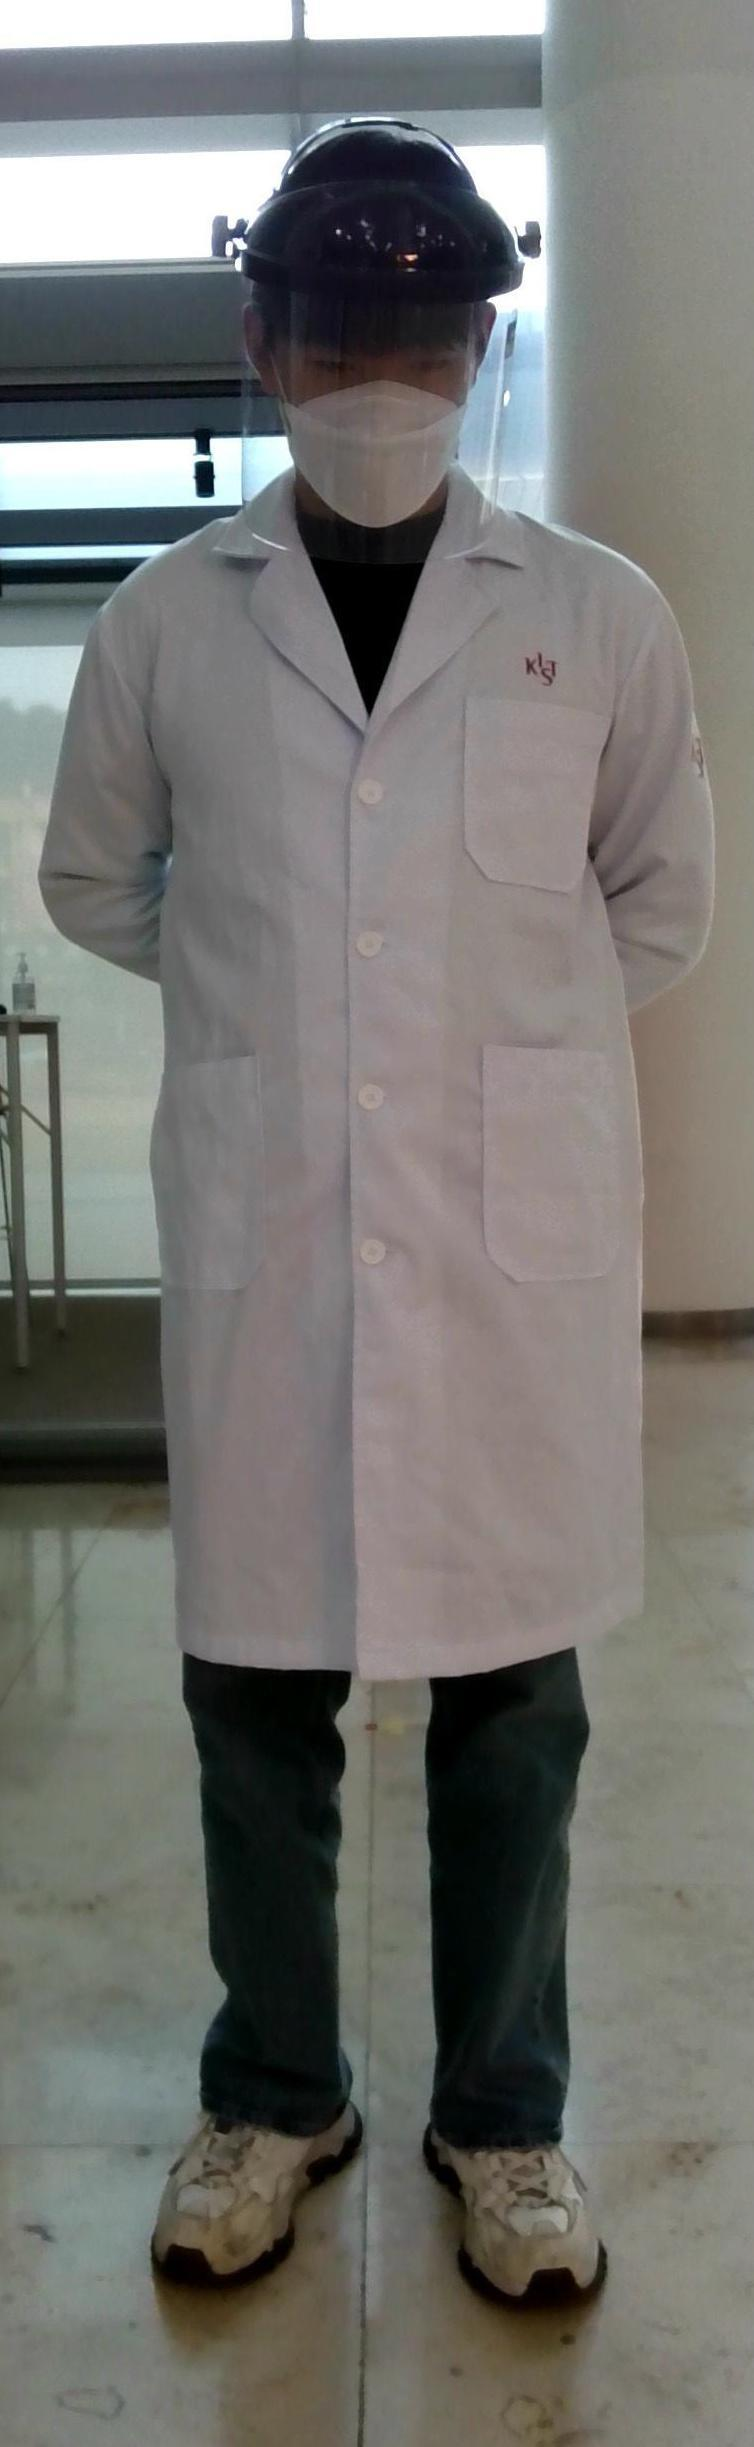lab_coat: (52, 506, 698, 1660)
